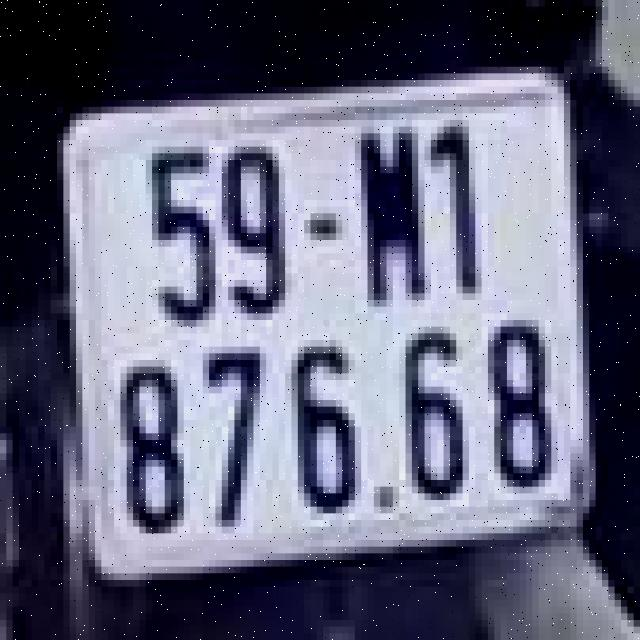1: (428, 100, 503, 313)
5: (139, 137, 222, 330)
6: (282, 336, 364, 516), (399, 320, 475, 507)
7: (193, 343, 276, 530)
8: (114, 357, 190, 543), (482, 310, 558, 490)
9: (218, 137, 294, 330)
M: (348, 120, 431, 307)
